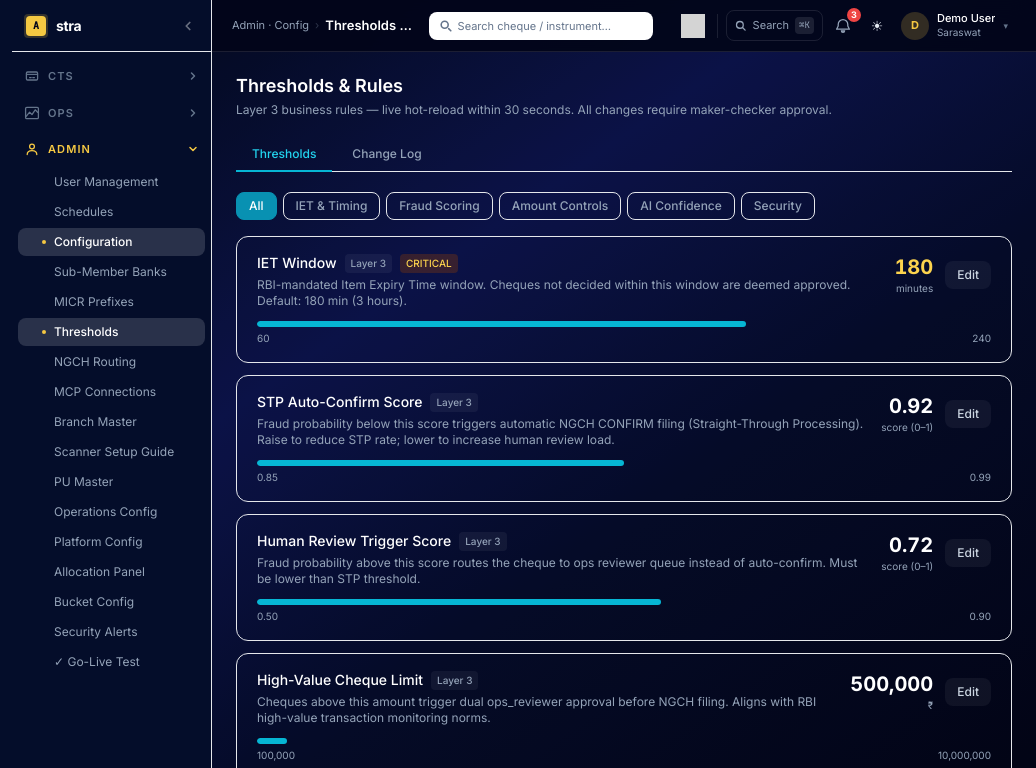
Test: CTSThresholds › category filters work
The image size is (1036, 768).
What coordinates should you click on to do the following:
click the button "Fraud Scoring"
I would click on:
 (439, 206)
Its box is left=386, top=192, right=493, bottom=220.
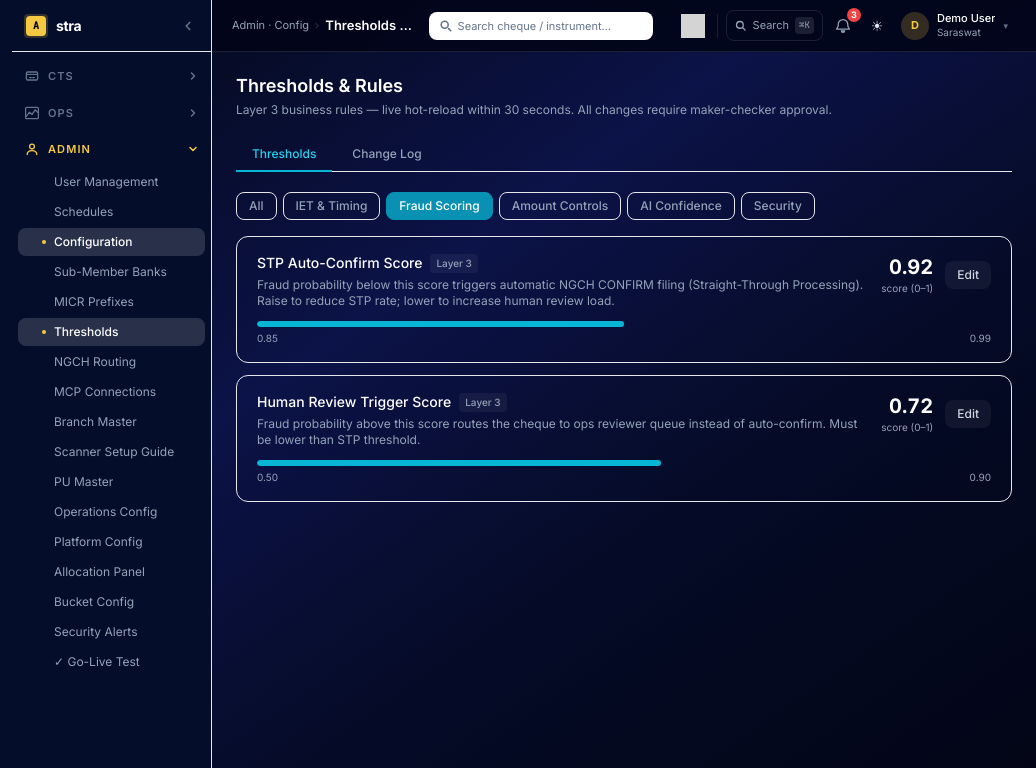
Expected: the text "STP Auto-Confirm Score" is shown, left=257, top=253, right=422, bottom=273
Now the text "IET Window" is gone
